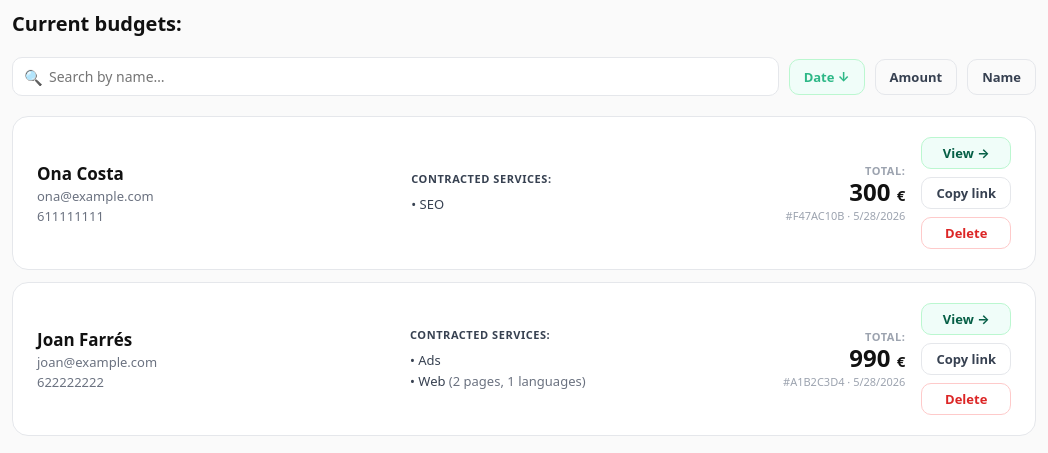
Test: BudgetList › shows no results message when search finds nothing
Step 1. Type "nobody" into the search field with placeholder "Search by name…" → coordinates (395, 76), box [12,57,779,96]
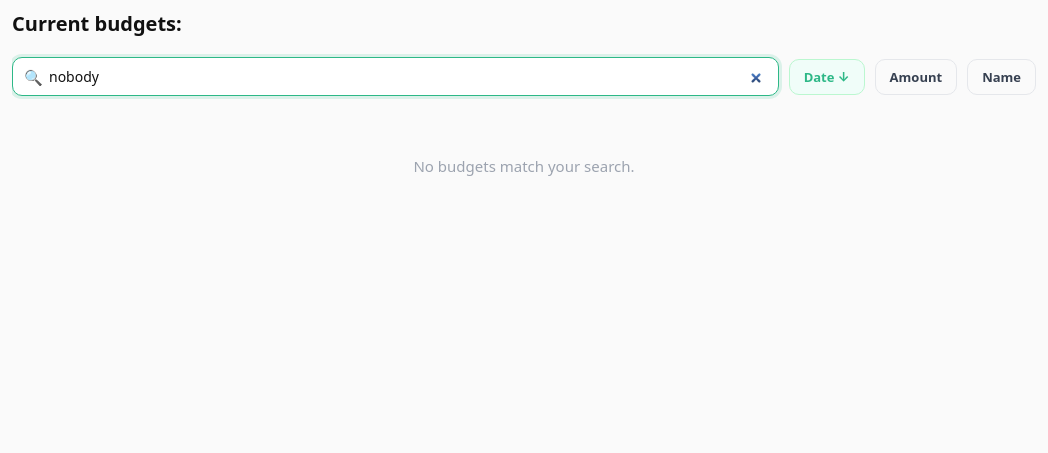
Now the text "No budgets match your search." is shown, box [414,156,634,176]
